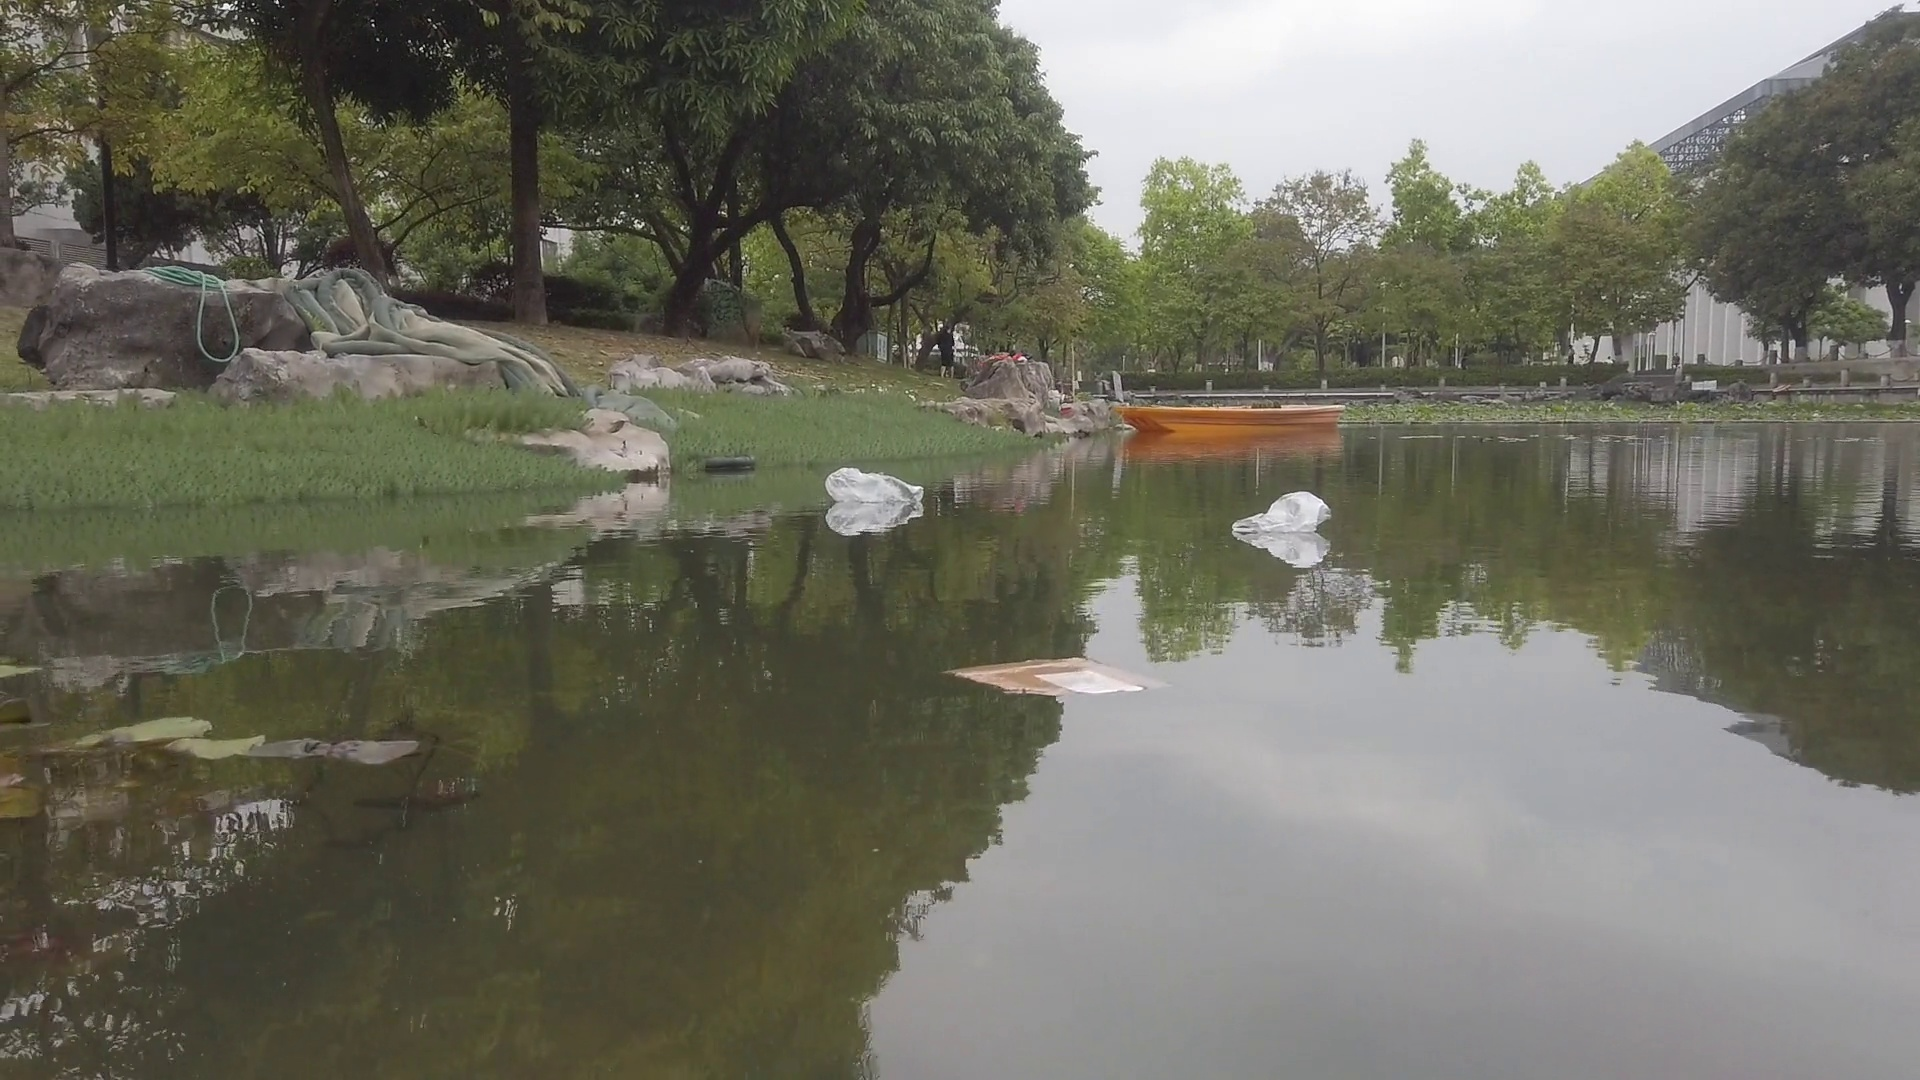paper: (953, 650, 1143, 705)
plastic: (825, 467, 924, 509), (1240, 493, 1332, 533)
